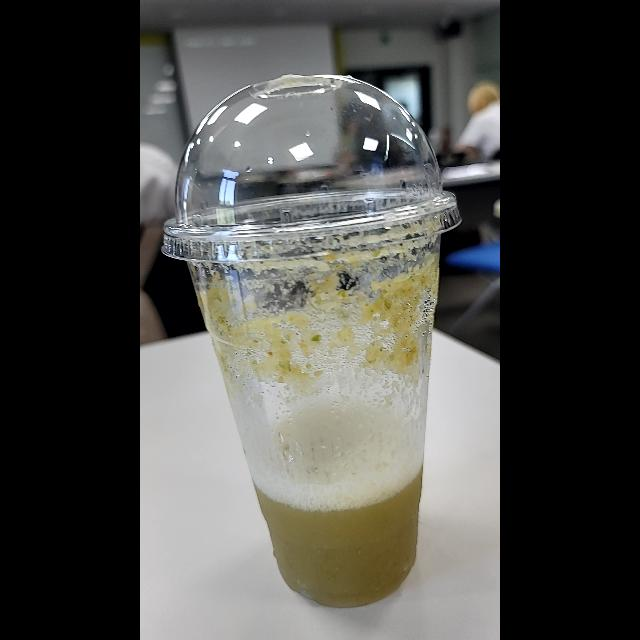plastic_cup: (154, 71, 468, 613)
plastic_cup_lid: (157, 71, 473, 265)
